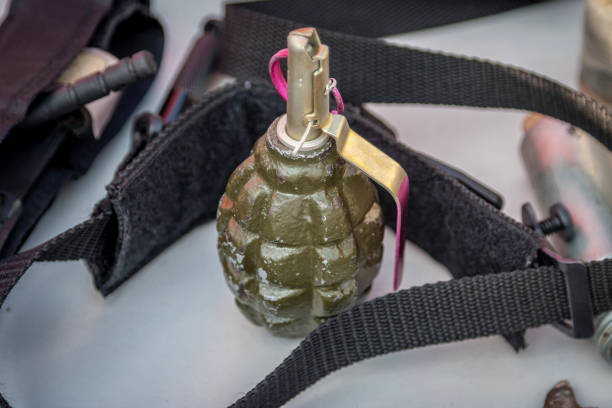e1: (212, 31, 408, 344)
